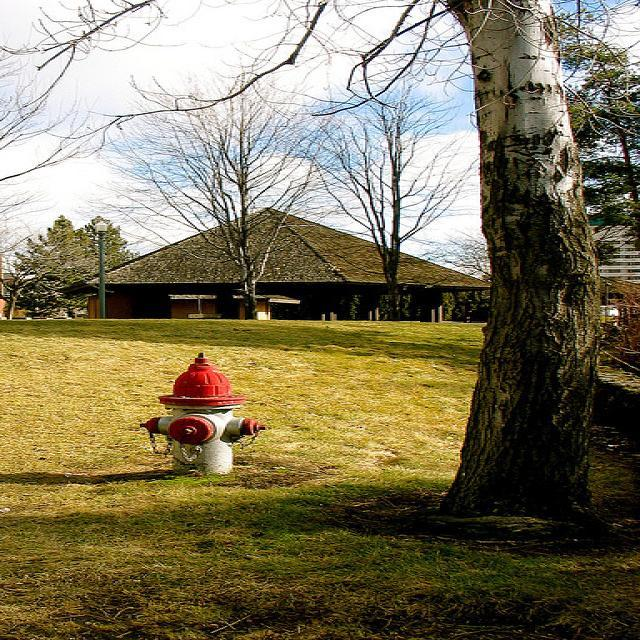fire_hydrant: (140, 353, 268, 478)
